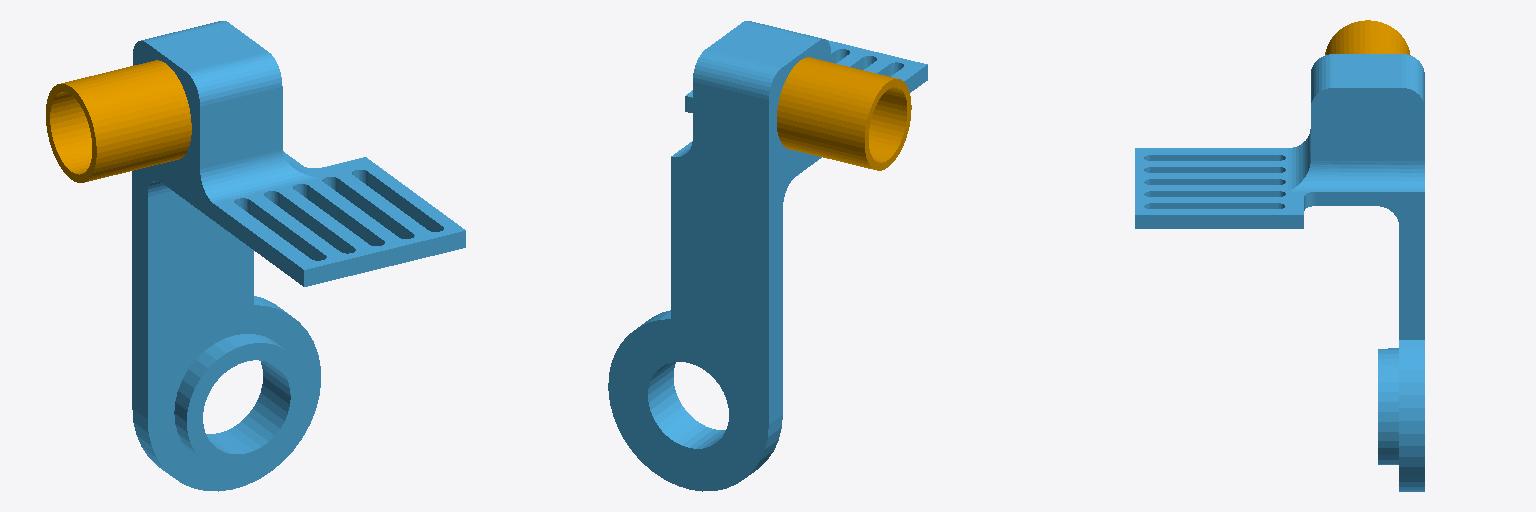
The robot description file, URDF, robot "rrbot":
<?xml version="1.0"?>
<!-- Revolute-Revolute Manipulator -->
<robot name="rrbot">

  <link name="leg1_pipebetweenhipandmotormountingbracket">
      <visual>
        <geometry>
          <mesh filename="package://rrbot_description/meshes/pipebetweenhipandmotormountingbracket.dae"/>
        </geometry>
        <origin xyz="0 0 0" rpy="0 0 -1.570"/>
      </visual>
      <collision>
        <geometry>
          <mesh filename="package://rrbot_description/meshes/pipebetweenhipandmotormountingbracket.dae"/>
        </geometry>
        <origin xyz="0 0 0" rpy="0 0 -1.570"/>
      </collision>
      <inertial>
        <origin xyz="-0.077506068 -0.001193546 -0.369502182" rpy="0 0 0"/>
        <mass value="0.02883033104"/>
        <inertia ixx="0.00757" ixy="0.0" ixz="0.0" iyy="0.212" iyz="0.0" izz="0.21199"/>
      </inertial>
    </link>

  <link name="leg1_motormountingbracket_fixed">
    <visual>
      <geometry>
        <mesh filename="package://rrbot_description/meshes/motormountingbracket_fixed.dae"/>
      </geometry>
      <origin xyz="0 0 0" rpy="0 0 0"/>
    </visual>
    <collision>
      <geometry>
        <mesh filename="package://rrbot_description/meshes/motormountingbracket_fixed.dae"/>
      </geometry>
      <origin xyz="0 0 0" rpy="0 0 0"/>
    </collision>
    <inertial>
      <origin xyz="-0.077506068 -0.001193546 -0.369502182" rpy="0 0 0"/>
      <mass value="0.02883033104"/>
      <inertia ixx="0.00757" ixy="0.0" ixz="0.0" iyy="0.212" iyz="0.0" izz="0.21199"/>
    </inertial>
  </link>

    <!-- <link name="leg1_upper_leg_bracket">
      <visual>
        <geometry>
          <mesh filename="package://rrbot_description/meshes/upper_leg_bracket.dae"/>
        </geometry>
        <origin xyz="0 0 0" rpy="0 0 1.570"/>
      </visual>
      <collision>
        <geometry>
          <mesh filename="package://rrbot_description/meshes/upper_leg_bracket.dae"/>
        </geometry>
        <origin xyz="0 0 0" rpy="0 0 1.570"/>
      </collision>
      <inertial>
        <origin xyz="-0.077506068 -0.001193546 -0.369502182" rpy="0 0 0"/>
        <mass value="0.02883033104"/>
        <inertia ixx="0.00757" ixy="0.0" ixz="0.0" iyy="0.212" iyz="0.0" izz="0.21199"/>
      </inertial>
    </link>

      <link name="leg1_upper_leg">
      <visual>
        <geometry>
          <mesh filename="package://rrbot_description/meshes/upper_leg.dae"/>
        </geometry>
        <origin xyz="0 0 0" rpy="0 0 -1.570"/>
      </visual>
      <collision>
        <geometry>
          <mesh filename="package://rrbot_description/meshes/upper_leg.dae"/>
        </geometry>
        <origin xyz="0 0 0" rpy="0 0 -1.570"/>
      </collision>
      <inertial>
        <origin xyz="-0.077506068 -0.001193546 -0.369502182" rpy="0 0 0"/>
        <mass value="0.02883033104"/>
        <inertia ixx="0.00757" ixy="0.0" ixz="0.0" iyy="0.212" iyz="0.0" izz="0.21199"/>
      </inertial>
    </link>

    <link name="leg1_eyeJoint">
      <visual>
        <geometry>
          <mesh filename="package://rrbot_description/meshes/eye_joint.dae"/>
        </geometry>
        <origin xyz="0 0 0" rpy="0 0 1.570"/>
      </visual>
      <collision>
        <geometry>
          <mesh filename="package://rrbot_description/meshes/eye_joint.dae"/>
        </geometry>
        <origin xyz="0 0 0" rpy="0 0 1.570"/>
      </collision>
      <inertial>
        <origin xyz="-0.077506068 -0.001193546 -0.369502182" rpy="0 0 0"/>
        <mass value="0.02883033104"/>
        <inertia ixx="0.00757" ixy="0.0" ixz="0.0" iyy="0.212" iyz="0.0" izz="0.21199"/>
      </inertial>
    </link>

    <link name="leg1_sphericalJointMiddleLink">
      <visual>
        <geometry>
          <mesh filename="package://rrbot_description/meshes/spherical_joint_middle_piece.dae"/>
        </geometry>
        <origin xyz="0 0 0" rpy="0 0 1.570"/>
      </visual>
      <collision>
        <geometry>
          <mesh filename="package://rrbot_description/meshes/spherical_joint_middle_piece.dae"/>
        </geometry>
        <origin xyz="0 0 0" rpy="0 0 1.570"/>
      </collision>
      <inertial>
        <origin xyz="-0.077506068 -0.001193546 -0.369502182" rpy="0 0 0"/>
        <mass value="0.02883033104"/>
        <inertia ixx="0.00757" ixy="0.0" ixz="0.0" iyy="0.212" iyz="0.0" izz="0.21199"/>
      </inertial>
    </link>

    <link name="leg1_bendElbow">
      <visual>
        <geometry>
          <mesh filename="package://rrbot_description/meshes/elbow_bend.dae"/>
        </geometry>
        <origin xyz="0 0 0" rpy="0 0 0"/>
      </visual>
      <collision>
        <geometry>
          <mesh filename="package://rrbot_description/meshes/elbow_bend.dae"/>
        </geometry>
        <origin xyz="0 0 0" rpy="0 0 0"/>
      </collision>
      <inertial>
        <origin xyz="-0.077506068 -0.001193546 -0.369502182" rpy="0 0 0"/>
        <mass value="0.02883033104"/>
        <inertia ixx="0.00757" ixy="0.0" ixz="0.0" iyy="0.212" iyz="0.0" izz="0.21199"/>
      </inertial>
    </link>

    <link name="leg1_lowerLeg">
      <visual>
        <geometry>
          <mesh filename="package://rrbot_description/meshes/lower_leg.dae"/>
        </geometry>
        <origin xyz="0 0 0" rpy="0 0 -1.570"/>
      </visual>
      <collision>
        <geometry>
          <mesh filename="package://rrbot_description/meshes/lower_leg.dae"/>
        </geometry>
        <origin xyz="0 0 0" rpy="0 0 -1.570"/>
      </collision>
      <inertial>
        <origin xyz="-0.077506068 -0.001193546 -0.369502182" rpy="0 0 0"/>
        <mass value="0.02883033104"/>
        <inertia ixx="0.00757" ixy="0.0" ixz="0.0" iyy="0.212" iyz="0.0" izz="0.21199"/>
      </inertial>
    </link>

    <link name="leg1_footBracket">
      <visual>
        <geometry>
          <mesh filename="package://rrbot_description/meshes/foot_bracket.dae"/>
        </geometry>
        <origin xyz="0 0 0" rpy="0 0 0"/>
      </visual>
      <collision>
        <geometry>
          <mesh filename="package://rrbot_description/meshes/foot_bracket.dae"/>
        </geometry>
        <origin xyz="0 0 0" rpy="0 0 0"/>
      </collision>
      <inertial>
        <origin xyz="-0.077506068 -0.001193546 -0.369502182" rpy="0 0 0"/>
        <mass value="0.02883033104"/>
        <inertia ixx="0.00757" ixy="0.0" ixz="0.0" iyy="0.212" iyz="0.0" izz="0.21199"/>
      </inertial>
    </link> -->

    <!-- JOINTS -->

    <joint name="leg1_pipebetweenhipandmotormountingbracket_to_motor" type="fixed">
      <parent link="leg1_pipebetweenhipandmotormountingbracket"/>
      <child link="leg1_motormountingbracket_fixed"/>
      <origin xyz="0.03073 0 0" rpy="-1.570 0 0"/>
    </joint>

    <!-- <joint name="leg1_motorMoutingBracket_to_upperLegBracket" type="revolute">
      <axis xyz="0 0 1"/>
      <limit effort="1000.0" lower="-1.570" upper="1.570" velocity="0"/>
      <origin xyz="0.00864 0.06680 0.01267" rpy="0 0 0"/>
      <parent link="leg1_motormountingbracket_fixed"/>
      <child link="leg1_upper_leg_bracket"/>
    </joint>

    <joint name="leg1_upperLegBracket_to_upperLink" type="fixed">
      <parent link="leg1_upper_leg_bracket"/>
      <child link="leg1_upper_leg"/>
      <origin xyz="0.05166 0 -0.01150" rpy="0 0 0"/>
    </joint>

    <joint name="leg1_upperLeg_to_eyeJoint" type="revolute">
      <axis xyz="1 0 0"/>
      <limit effort="1000.0" lower="-3.14" upper="3.14" velocity="0"/>
      <origin xyz="0.09885 0 0" rpy="0 0 0"/>
      <parent link="leg1_upper_leg"/>
      <child link="leg1_eyeJoint"/>
    </joint>

    <joint name="leg1_eyeJoint_to_sphericalJointMiddleLink" type="revolute">
      <axis xyz="0 0 1"/>
      <limit effort="1000.0" lower="-1.570" upper="1.570" velocity="0"/>
      <origin xyz="0 0 0" rpy="0 0 0"/>
      <parent link="leg1_eyeJoint"/>
      <child link="leg1_sphericalJointMiddleLink"/>
    </joint>

    <joint name="leg1_sphericalJointMiddleLink_to_bendElbow" type="revolute">
      <axis xyz="1 0 0"/>
      <limit effort="1000.0" lower="-3.14" upper="3.14" velocity="0"/>
      <origin xyz="0.01916 0 0" rpy="0 0 0"/>
      <parent link="leg1_sphericalJointMiddleLink"/>
      <child link="leg1_bendElbow"/>
    </joint>

    <joint name="leg1_bendElbow_to_lowerLeg" type="fixed">
      <parent link="leg1_bendElbow"/>
      <child link="leg1_lowerLeg"/>
      <origin xyz="0.06170 0.01192 0" rpy="0 0 0.7"/>
    </joint>

    <joint name="leg1_lowerLeg_footBracket" type="fixed">
      <parent link="leg1_lowerLeg"/>
      <child link="leg1_footBracket"/>
      <origin xyz="0.26032 0 0" rpy="0 0 0"/>
    </joint> -->

</robot>

--- What the picture shows (computed from the rendered views, not written in the file) ---
The picture shows the robot from 3 angles, left to right: view 1: azimuth 30°, elevation 25°; view 2: azimuth 150°, elevation 25°; view 3: azimuth 270°, elevation 25°; orthographic projection.
Robot: rrbot — 2 links, 1 joints (1 fixed); root link leg1_pipebetweenhipandmotormountingbracket; default pose: every joint at zero.
Visible links, largest first — view 1: leg1_motormountingbracket_fixed, leg1_pipebetweenhipandmotormountingbracket; view 2: leg1_motormountingbracket_fixed, leg1_pipebetweenhipandmotormountingbracket; view 3: leg1_motormountingbracket_fixed, leg1_pipebetweenhipandmotormountingbracket.
Boxes of the visible links, bbox=[...] form: leg1_motormountingbracket_fixed: bbox=[132, 21, 465, 491]; leg1_pipebetweenhipandmotormountingbracket: bbox=[46, 60, 191, 182]; leg1_motormountingbracket_fixed: bbox=[608, 21, 927, 491]; leg1_pipebetweenhipandmotormountingbracket: bbox=[777, 57, 911, 170]; leg1_motormountingbracket_fixed: bbox=[1135, 54, 1424, 491]; leg1_pipebetweenhipandmotormountingbracket: bbox=[1325, 20, 1410, 55].
Size in the robot's own frame: 0.0582 by 0.0644 by 0.0965 metres.
Meshes: 2 distinct files referenced, 2 mesh visuals loaded (2 Collada DAE).